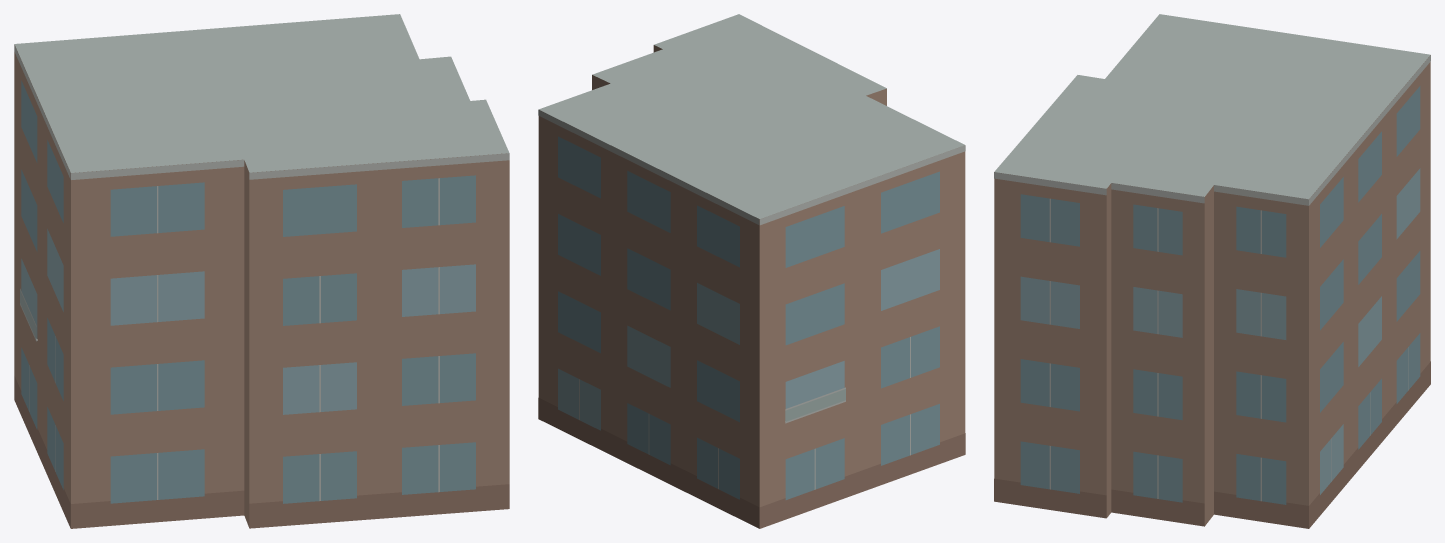
The model's file is survey-upis-32577698.glb.
The picture shows the model from 3 angles, left to right: view 1: azimuth 30°, elevation 25°; view 2: azimuth 150°, elevation 25°; view 3: azimuth 270°, elevation 25°; orthographic projection. The views are drawn at different scales.
Parts seen in each view (by area): view 1: survey-upis-32577698.tmp; view 2: survey-upis-32577698.tmp; view 3: survey-upis-32577698.tmp.
Boxes of the visible parts, bbox=[...] form: survey-upis-32577698.tmp: bbox=[14, 14, 509, 528]; survey-upis-32577698.tmp: bbox=[538, 14, 965, 528]; survey-upis-32577698.tmp: bbox=[994, 14, 1430, 528].
Size of the model in its own units: 14.72 by 12.2 by 14.66.
